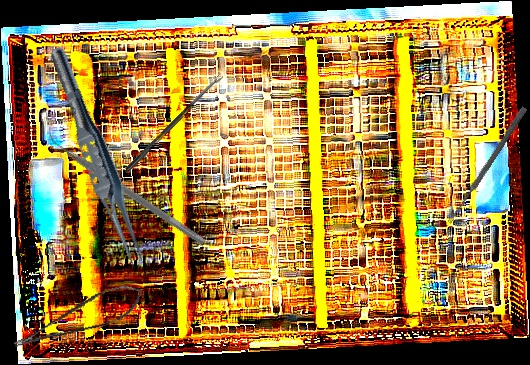Micro Scissor: (6, 278, 149, 353)
Spatula Surgical: (41, 128, 211, 246)
Surgical Spoon: (124, 73, 225, 173), (446, 105, 528, 226)
Tissue Forceps: (39, 43, 156, 274)
